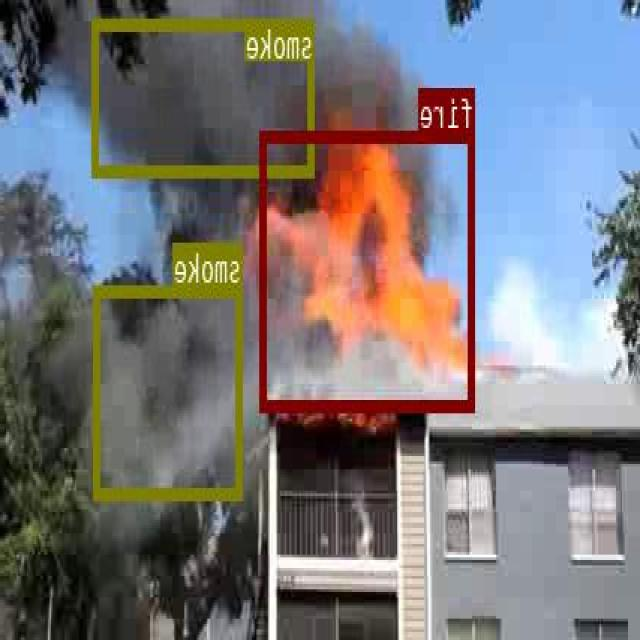fire: (262, 129, 476, 408)
smoke: (93, 17, 316, 175), (95, 283, 244, 498)
